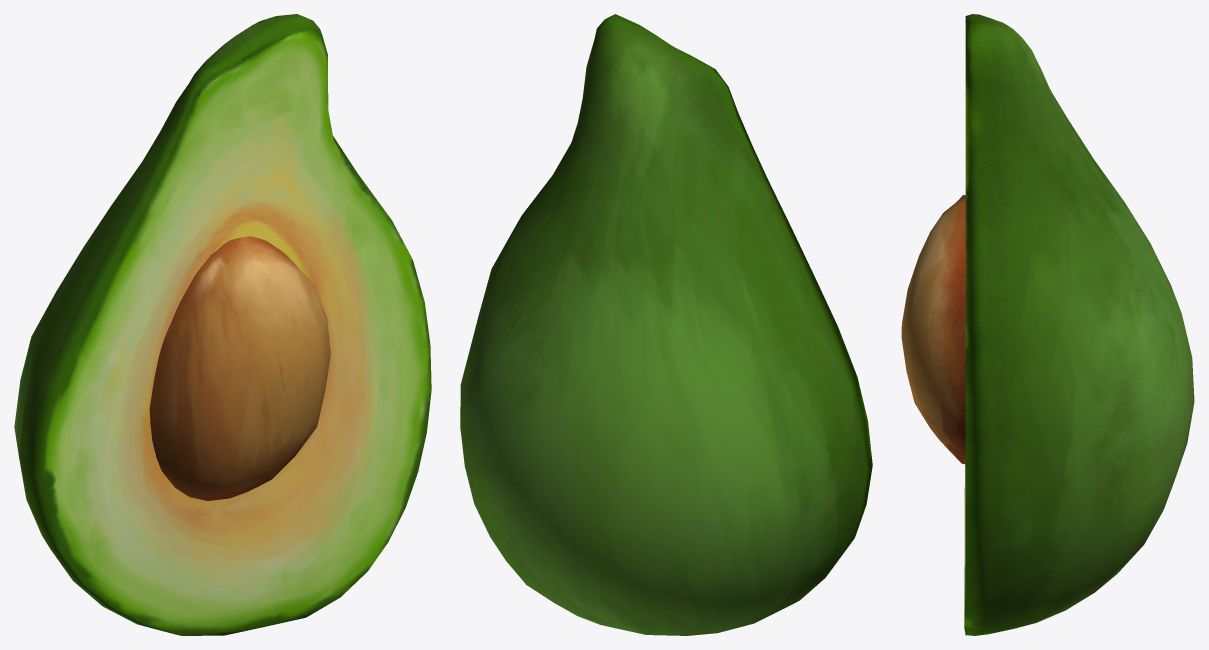
File: aguacate.glb
3 renders of one model, left to right at view 1: azimuth 30°, elevation 25°; view 2: azimuth 150°, elevation 25°; view 3: azimuth 270°, elevation 25°, orthographic. The views are drawn at different scales.
Visible parts, largest first — view 1: Avocado_0; view 2: Avocado_0; view 3: Avocado_0.
Part boxes in pixels (x1,y1,x2,y2): Avocado_0: (14, 14, 431, 635); Avocado_0: (460, 14, 872, 635); Avocado_0: (901, 14, 1194, 635).
Bounding box in the file's own units: 1.18 × 1.75 × 0.767.
Materials: 1 (1 with a texture image).
